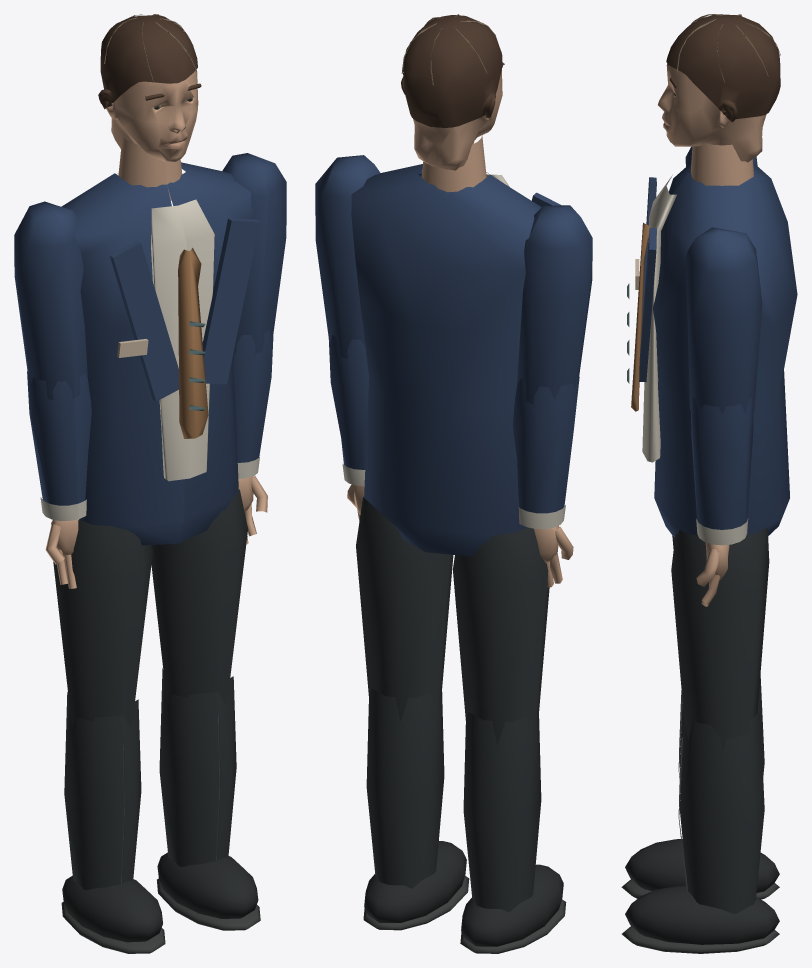
Rendered from saul-goodman-lod.glb.
The picture shows the model from 3 angles, left to right: view 1: azimuth 30°, elevation 25°; view 2: azimuth 150°, elevation 25°; view 3: azimuth 270°, elevation 25°; orthographic projection.
Parts seen in each view (by area): view 1: Torso, TrouserThigh (×2), TrouserCalf (×2), TailoredSleeve (×2), Forearm (×2), Shoe (×2), ShirtFront, Head, AnatomicalFace, Tie, Sole (×2), Neck (+3 smaller); view 2: Torso, TrouserThigh (×2), TrouserCalf (×2), TailoredSleeve (×2), Forearm (×2), Head, Shoe (×2), AnatomicalFace, Sole (×2), Neck, LeftHand, Cuff; view 3: Torso, TrouserThigh, TrouserCalf (×2), TailoredSleeve, Shoe (×2), Head, Forearm, AnatomicalFace, ShirtFront, Neck, Sole (×2), Tie (+2 smaller).
Part boxes in pixels (x1,y1,x2,y2): Torso: (61,162,259,545); TrouserThigh (×2): (53,489,247,727); TrouserCalf (×2): (64,668,236,890); TailoredSleeve (×2): (14,153,286,399); Forearm (×2): (27,330,273,505); Shoe (×2): (62,852,258,942); ShirtFront: (151,199,214,481); Head: (98,14,201,109); AnatomicalFace: (106,69,198,161); Tie: (178,248,208,438); Sole (×2): (61,878,260,953); Neck: (118,137,182,200); Torso: (351,164,561,556); TrouserThigh (×2): (356,497,549,744); TrouserCalf (×2): (366,688,541,912); TailoredSleeve (×2): (315,155,592,403); Forearm (×2): (328,334,579,513); Head: (401,14,504,127); Shoe (×2): (364,841,563,946); AnatomicalFace: (413,69,502,170); Sole (×2): (363,876,566,953); Neck: (421,134,486,192); LeftHand: (534,525,573,587); Cuff: (518,505,565,529); Torso: (627,162,797,537); TrouserThigh: (671,528,769,749); TrouserCalf (×2): (679,674,764,913); TailoredSleeve: (685,227,762,414); Shoe (×2): (625,839,779,944); Head: (666,14,780,122); Forearm: (691,396,753,529); AnatomicalFace: (658,64,766,162); ShirtFront: (642,175,676,462); Neck: (690,143,753,185); Sole (×2): (621,879,779,953); Tie: (631,222,649,411).
Bounding box in the file's own units: 0.5433 × 1.76 × 0.311.
